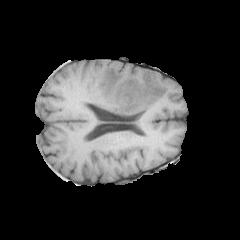glioma: (97, 66, 167, 115)
